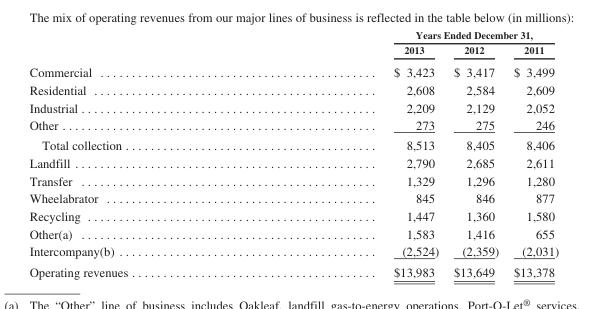table: (28, 28, 558, 278)
table column: (28, 28, 260, 278), (260, 28, 445, 278), (445, 28, 505, 278), (505, 28, 558, 278)
table column header: (28, 28, 558, 60)
table row: (28, 60, 558, 80), (28, 116, 558, 135), (28, 242, 558, 261), (28, 42, 558, 60), (28, 80, 558, 98), (28, 98, 558, 116), (28, 135, 558, 153), (28, 153, 558, 171), (28, 171, 558, 189), (28, 206, 558, 224), (28, 224, 558, 242), (28, 189, 558, 206), (28, 261, 558, 278), (28, 28, 558, 42)
table spanning cell: (260, 28, 558, 42)
